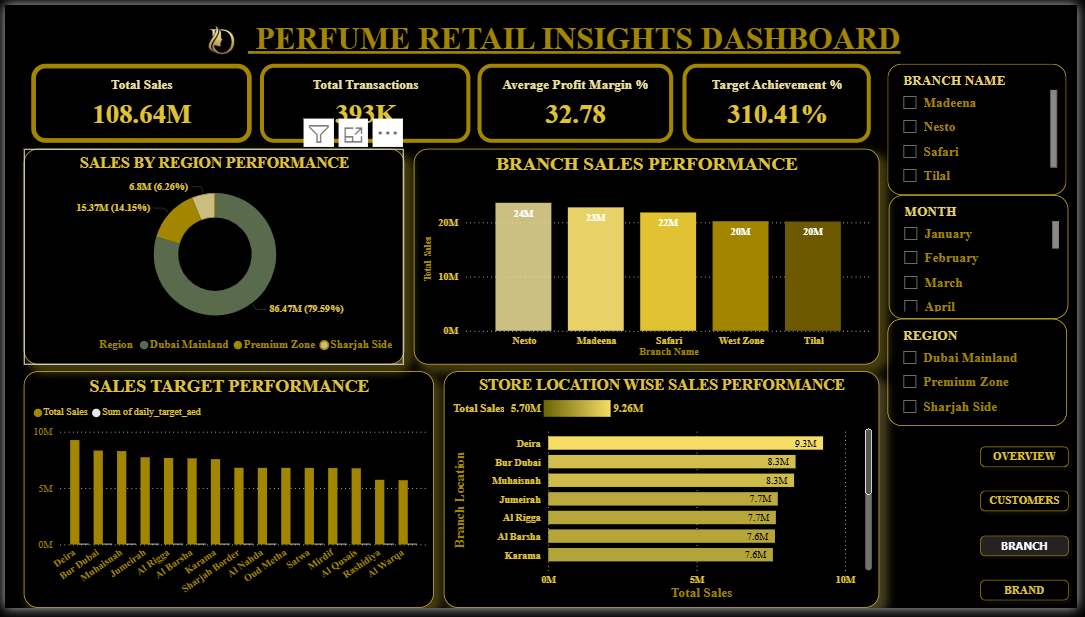

What the dashboard file says about the page in this screenshot:
{"tool":"powerbi","page":{"name":"BRANCH","canvas":[1280,720],"ordinal":2},"visuals":[{"type":"image","box":[214.1,0,90.6,83.7],"z":0},{"type":"textbox","box":[285.4,13.7,820.6,56.3],"z":1000},{"type":"cardVisual","fields":{"Data":["Sales2024.Total Transactions"]},"box":[304.6,70,251.1,94.7],"z":3000},{"type":"cardVisual","fields":{"Data":["Sales2024.Target Achievement %"]},"box":[809.6,70,225,94.7],"z":4000},{"type":"slicer","fields":{"Values":["Date.date.Variation.Date Hierarchy.Month"]},"box":[1055.2,226.4,214.1,148.2],"z":5000},{"type":"cardVisual","fields":{"Data":["Sales2024.Average Profit Margin %"]},"box":[564,70,233.3,94.7],"z":6000},{"type":"slicer","fields":{"Values":["Store.region"]},"box":[1053.9,374.6,214.1,127.6],"z":7000},{"type":"clusteredColumnChart","title":"BRANCH SALES PERFORMANCE","fields":{"Y":["Sales2024.Total Sales"],"Category":["Store.branch_name"]},"box":[488.5,171.5,555.7,258],"z":8000},{"type":"clusteredColumnChart","title":"SALES TARGET PERFORMANCE","fields":{"Category":["Store.branch_location"],"Y":["Sales2024.Total Sales","Sum(Store.daily_target_aed)"]},"box":[22,437.7,489.9,282.7],"z":9000},{"type":"slicer","fields":{"Values":["Store.branch_name"]},"box":[1054.4,70,213.5,156.8],"z":10000},{"type":"clusteredBarChart","title":"STORE LOCATION WISE SALES PERFORMANCE","fields":{"Y":["Sales2024.Total Sales"],"Category":["Store.branch_location"]},"box":[524.2,437.7,520.1,282.7],"z":11000},{"type":"donutChart","title":"SALES BY REGION PERFORMANCE","fields":{"Y":["Sales2024.Total Sales"],"Series":["Store.region"]},"box":[22,171.5,454.2,258],"z":12000},{"type":"pageNavigator","box":[1155.4,517.3,124.9,203.1],"z":13000},{"type":"cardVisual","fields":{"Data":["Sales2024.Total Sales"]},"box":[31.6,70,263.5,94.7],"z":13001}]}

Visuals, with their boxes in screenshot pixels (x1, y1, x2, y2), scaled from the page's 1280x720 canvas onto the 1085x617 screenshot:
image: Rect(181, 0, 258, 72)
textbox: Rect(242, 12, 938, 60)
cardVisual - Sales2024.Total Transactions: Rect(258, 60, 471, 141)
cardVisual - Sales2024.Target Achievement %: Rect(686, 60, 877, 141)
slicer - Date.date.Variation.Date Hierarchy.Month: Rect(894, 194, 1076, 321)
cardVisual - Sales2024.Average Profit Margin %: Rect(478, 60, 676, 141)
slicer - Store.region: Rect(893, 321, 1075, 430)
"BRANCH SALES PERFORMANCE" clusteredColumnChart: Rect(414, 147, 885, 368)
"SALES TARGET PERFORMANCE" clusteredColumnChart: Rect(19, 375, 434, 616)
slicer - Store.branch_name: Rect(894, 60, 1075, 194)
"STORE LOCATION WISE SALES PERFORMANCE" clusteredBarChart: Rect(444, 375, 885, 616)
"SALES BY REGION PERFORMANCE" donutChart: Rect(19, 147, 404, 368)
pageNavigator: Rect(979, 443, 1084, 616)
cardVisual - Sales2024.Total Sales: Rect(27, 60, 250, 141)
